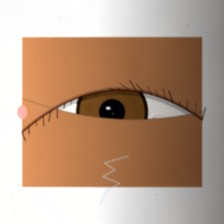foreign_body_visible: (84, 66, 118, 93)
